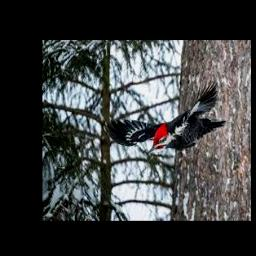Woodpecker: (104, 80, 225, 154)
